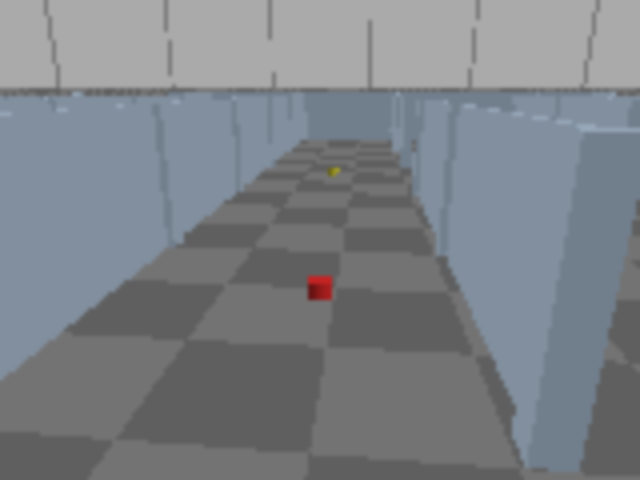puck: (308, 276, 331, 301)
